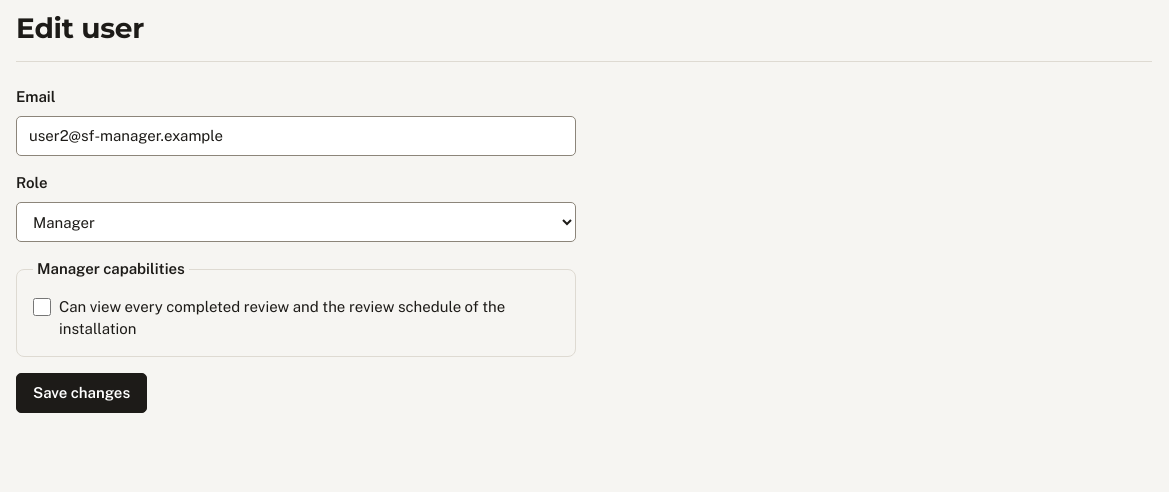
Scenario: UserEditPage › shows a distinct last-admin-lockout message on a 409 LAST_SYSTEM_ADMIN response
This screenshot has width=1169, height=492.
Click the button with test id "user-edit-submit".
click(82, 393)  # box left=16, top=373, right=147, bottom=413
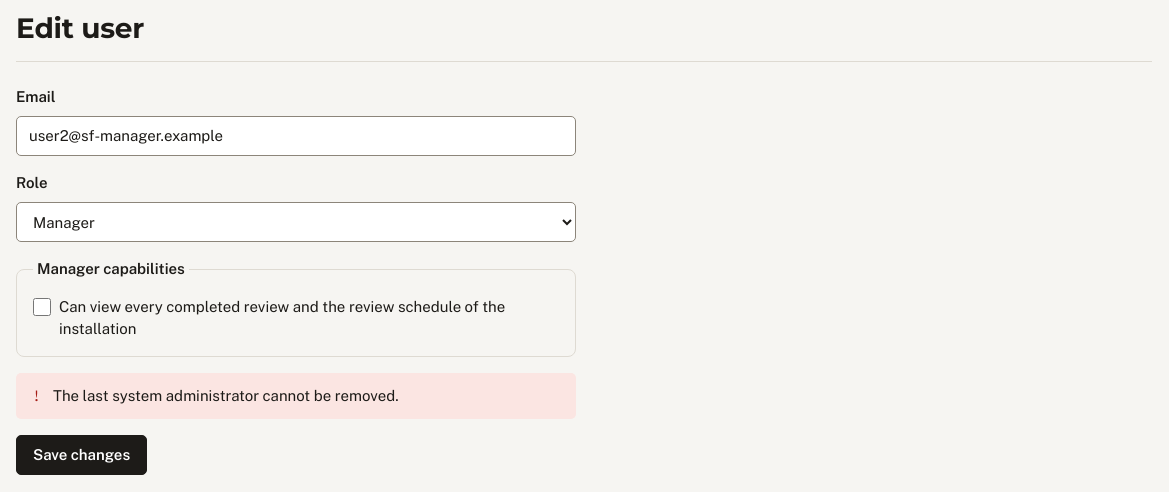
Expected: the message with test id "user-edit-error" shows "The last system administrator cannot be removed.", left=53, top=387, right=399, bottom=404
